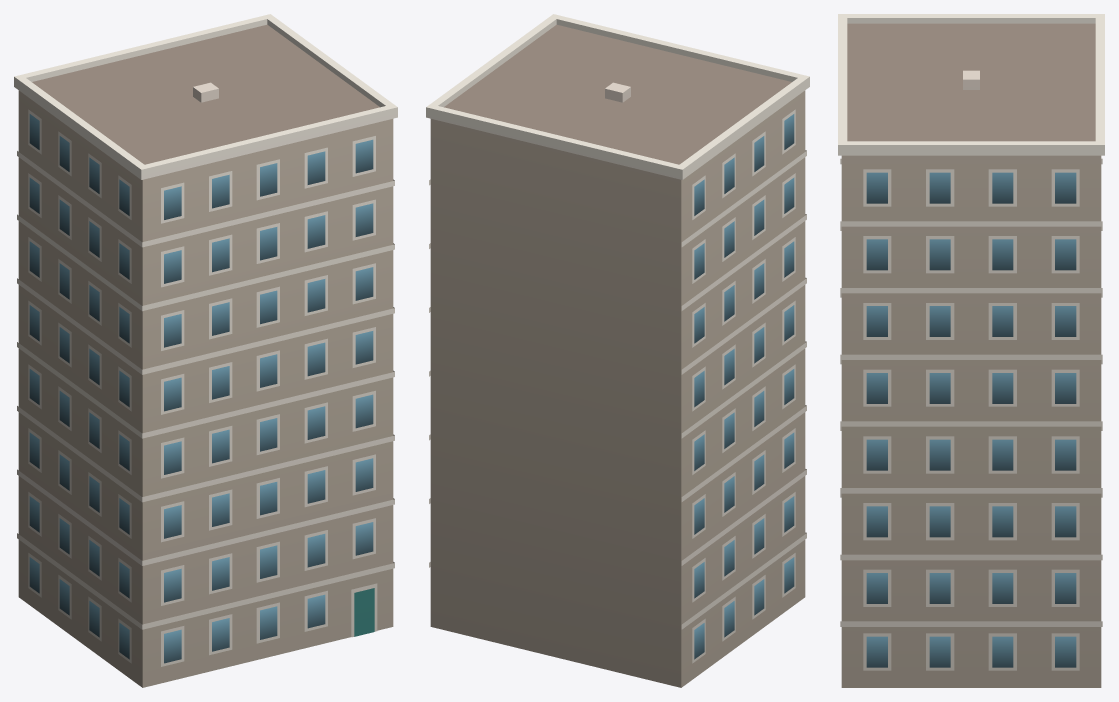
The model's file is sky4_far.glb.
3 views of the same model, side by side, from view 1: azimuth 30°, elevation 25°; view 2: azimuth 150°, elevation 25°; view 3: azimuth 270°, elevation 25° (orthographic). The views are drawn at different scales.
Parts seen in each view (by area): view 1: sky4_far; view 2: sky4_far; view 3: sky4_far.
Boxes of the visible parts, x1=… form: sky4_far: x1=14, y1=14, x2=397, y2=687; sky4_far: x1=426, y1=14, x2=809, y2=687; sky4_far: x1=838, y1=14, x2=1104, y2=687.
Bounding box in the file's own units: 14.32 × 27.97 × 12.32.
Materials: 1 (1 with a texture image).
